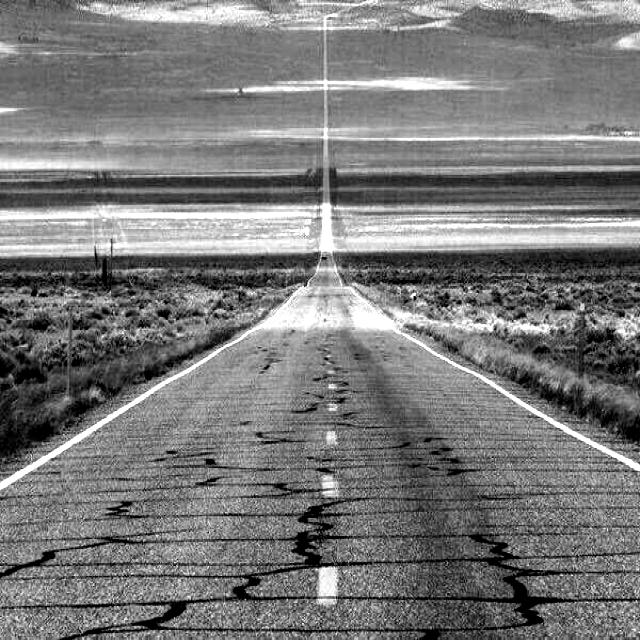cleat: (142, 109, 640, 640)
